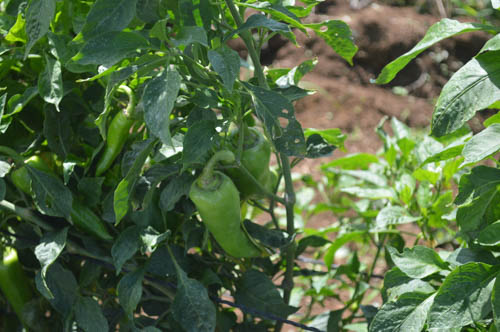ChiliPepper: (13, 161, 114, 241), (188, 178, 263, 259), (229, 133, 273, 192), (97, 115, 130, 175)
